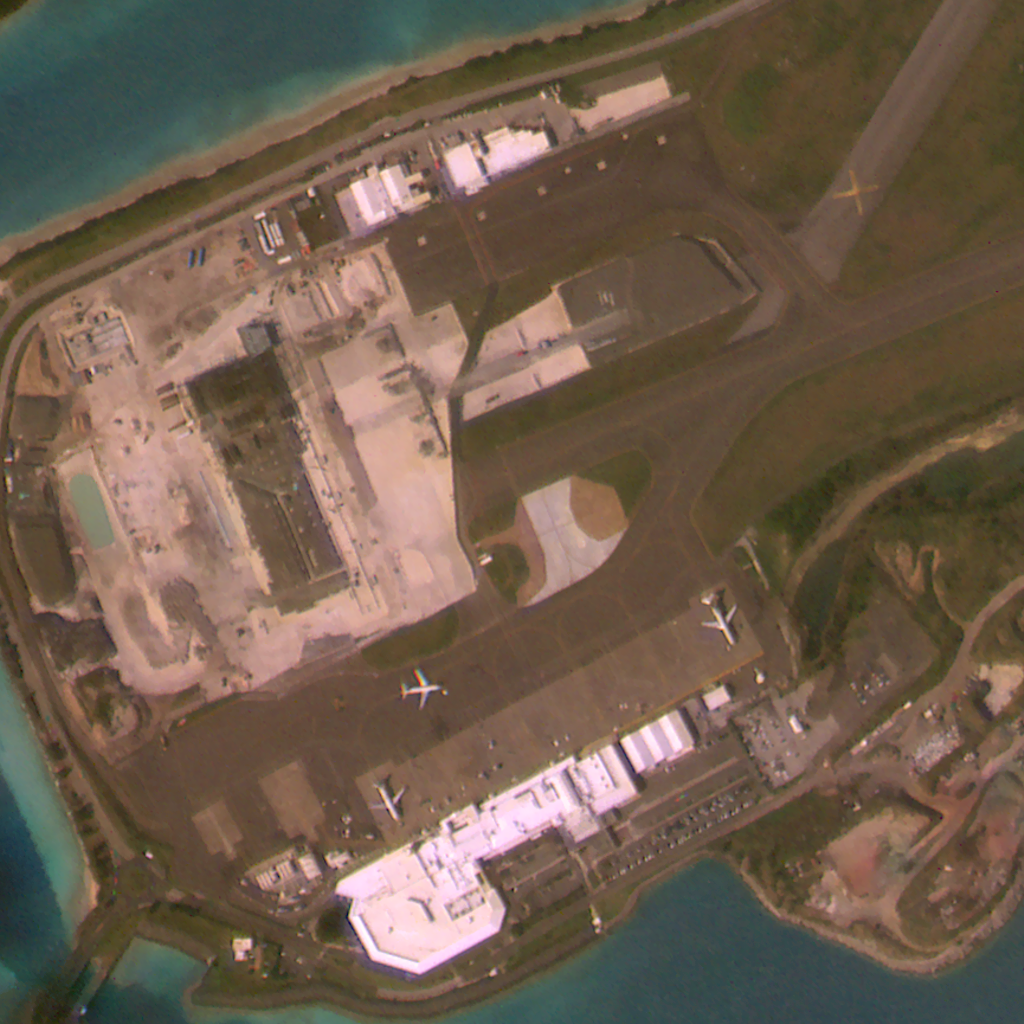plane: (700, 596, 741, 648), (837, 171, 883, 215), (367, 780, 409, 821), (402, 672, 441, 708)
